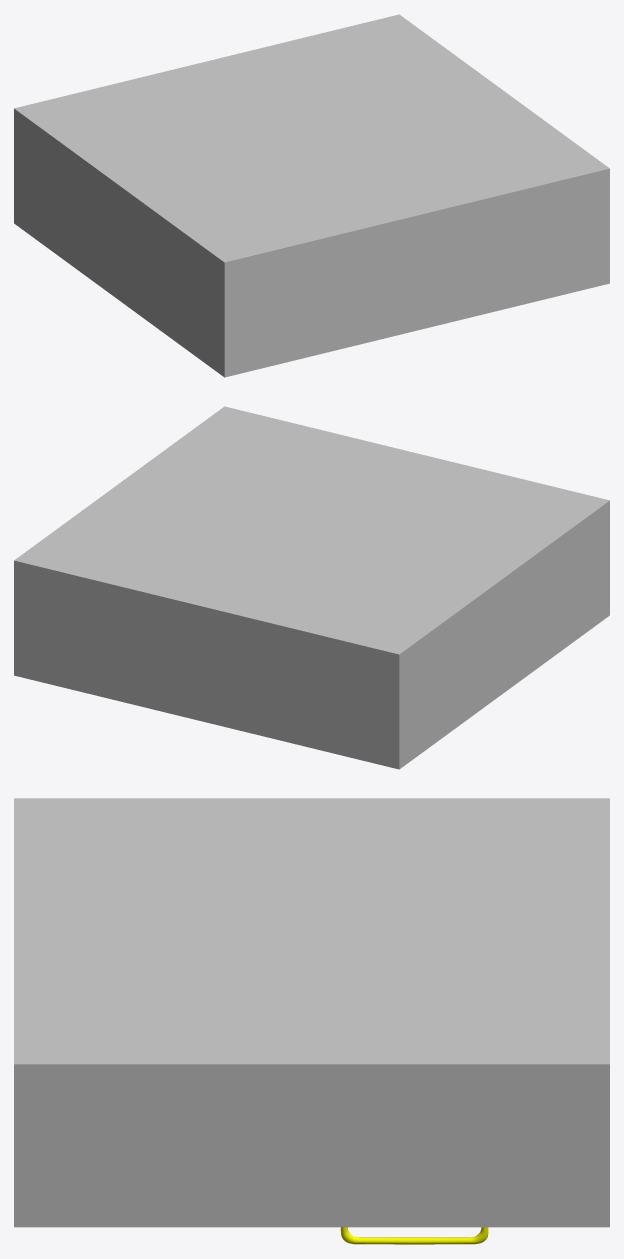
Rendered from sm_hana_lcs_dcp_panel.glb.
The picture shows the model from 3 angles, top to bottom: view 1: azimuth 30°, elevation 25°; view 2: azimuth 150°, elevation 25°; view 3: azimuth 270°, elevation 25°; orthographic projection. The views are drawn at different scales.
Visible parts, largest first — view 1: sm_color_common; view 2: sm_color_common; view 3: sm_color_common, sm_hana_lcs_dcp_panel.
Boxes of the visible parts, box(x1,y1,x2,y2) form: sm_color_common: box(14, 14, 609, 377); sm_color_common: box(14, 406, 609, 769); sm_color_common: box(14, 798, 609, 1227); sm_hana_lcs_dcp_panel: box(340, 1227, 488, 1244).
Size of the model in its own units: 0.8486 by 0.2953 by 0.8032.
Materials: 2 (1 with a texture image).
